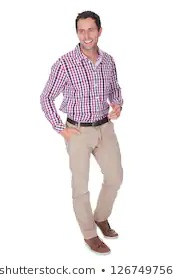F_belt: (66, 116, 110, 128)
F_shirt: (41, 42, 123, 127)
